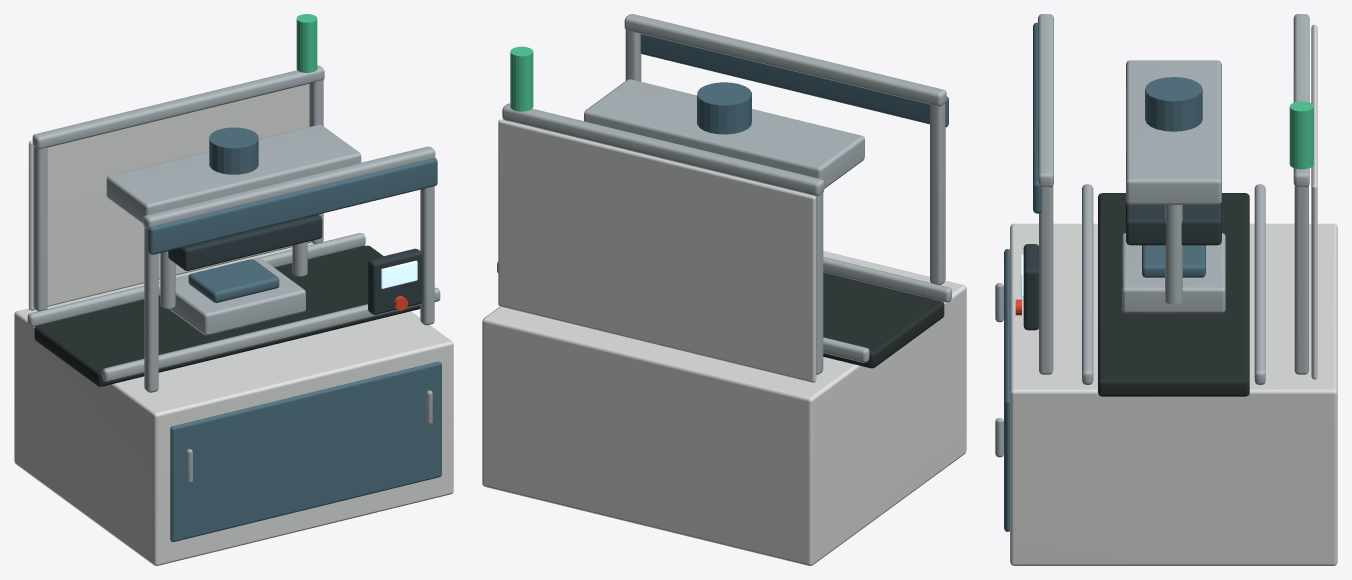
Rendered from assembly-cell.glb.
The picture shows the model from 3 angles, left to right: view 1: azimuth 30°, elevation 25°; view 2: azimuth 150°, elevation 25°; view 3: azimuth 270°, elevation 25°; orthographic projection. The views are drawn at different scales.
Visible parts, largest first — view 1: Cabinet, Door_panel, Back_panel, Conveyor, Press_bridge, Header, Top_rail, Fixture, Guide_rail.001, Top_rail.001, PressHead, Guide_rail (+10 smaller); view 2: Cabinet, Back_panel, Press_bridge, Conveyor, Header, Top_rail.001, Top_rail, Frame.001, Cylinder, Guide_rail.001, Tower, Frame (+2 smaller); view 3: Cabinet, Conveyor, Press_bridge, Fixture, PressHead, Cylinder, Frame.002, Top_rail.001, Frame.003, Guide_rail, Guide_rail.001, Back_panel (+7 smaller).
Part boxes in pixels (left/top/right/bottom): Cabinet: left=14, top=242, right=453, bottom=565; Door_panel: left=170, top=361, right=441, bottom=541; Back_panel: left=28, top=84, right=310, bottom=310; Conveyor: left=34, top=245, right=420, bottom=386; Press_bridge: left=106, top=124, right=361, bottom=223; Header: left=148, top=158, right=437, bottom=254; Top_rail: left=32, top=65, right=324, bottom=149; Fixture: left=169, top=259, right=305, bottom=335; Guide_rail.001: left=102, top=287, right=440, bottom=381; Top_rail.001: left=143, top=146, right=435, bottom=229; PressHead: left=168, top=214, right=322, bottom=270; Guide_rail: left=27, top=233, right=365, bottom=326; Cabinet: left=482, top=251, right=966, bottom=565; Back_panel: left=498, top=119, right=816, bottom=382; Press_bridge: left=584, top=79, right=864, bottom=188; Conveyor: left=823, top=272, right=944, bottom=368; Header: left=640, top=34, right=948, bottom=127; Top_rail.001: left=624, top=14, right=946, bottom=106; Top_rail: left=502, top=103, right=824, bottom=195; Frame.001: left=930, top=103, right=945, bottom=284; Cylinder: left=697, top=82, right=751, bottom=134; Guide_rail.001: left=823, top=257, right=951, bottom=302; Tower: left=510, top=46, right=533, bottom=111; Frame: left=809, top=192, right=823, bottom=374; Cabinet: left=1010, top=223, right=1337, bottom=565; Conveyor: left=1098, top=193, right=1249, bottom=396; Press_bridge: left=1126, top=60, right=1221, bottom=204; Fixture: left=1122, top=233, right=1225, bottom=313; PressHead: left=1126, top=201, right=1221, bottom=245; Cylinder: left=1145, top=77, right=1202, bottom=131; Frame.002: left=1294, top=186, right=1308, bottom=374; Top_rail.001: left=1038, top=14, right=1053, bottom=187; Frame.003: left=1039, top=186, right=1053, bottom=374; Guide_rail: left=1254, top=184, right=1265, bottom=384; Guide_rail.001: left=1082, top=184, right=1093, bottom=384; Back_panel: left=1311, top=24, right=1317, bottom=379.
Size of the model in its own units: 2.8 by 3.16 by 2.14.
